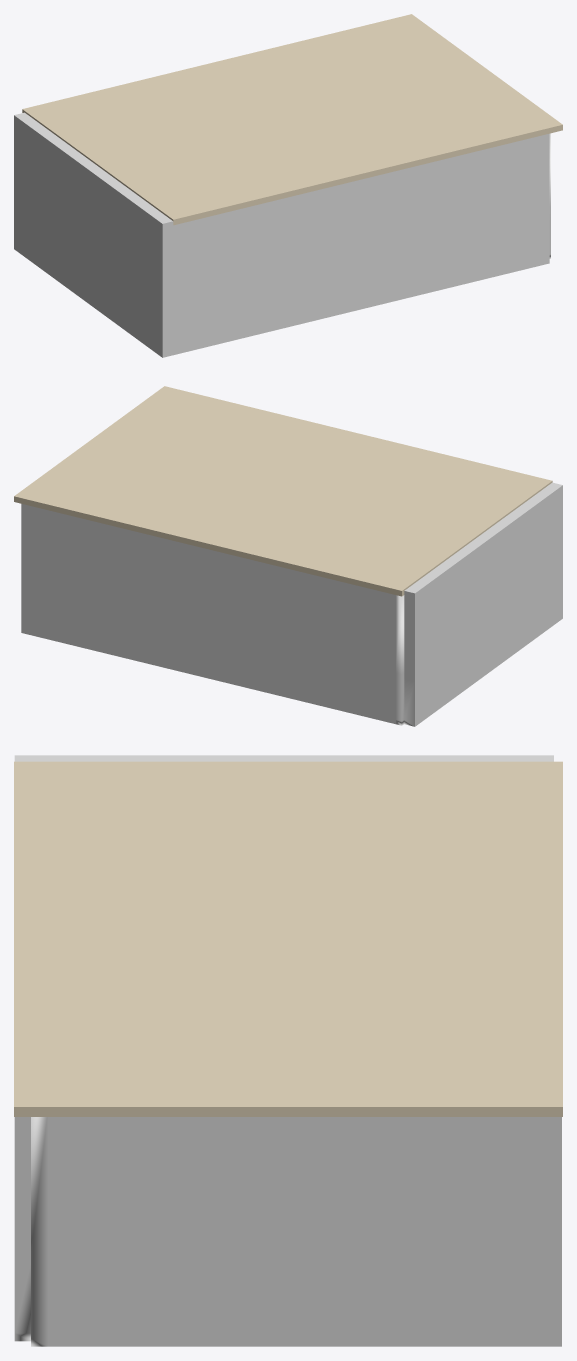
The model's file is NIvell_inici_color.fbx.
3 renders of one model, top to bottom at view 1: azimuth 30°, elevation 25°; view 2: azimuth 150°, elevation 25°; view 3: azimuth 270°, elevation 25°, orthographic. The views are drawn at different scales.
Parts seen in each view (by area): view 1: escena, techo; view 2: escena, techo; view 3: techo, escena.
Part boxes in pixels (box(x1,y1,x2,y2)): escena: box(14, 112, 550, 357); techo: box(22, 14, 562, 225); escena: box(21, 482, 562, 726); techo: box(14, 386, 552, 596); techo: box(14, 761, 562, 1116); escena: box(14, 755, 561, 1346).
Size of the model in its own units: 1891 by 612 by 1237.
